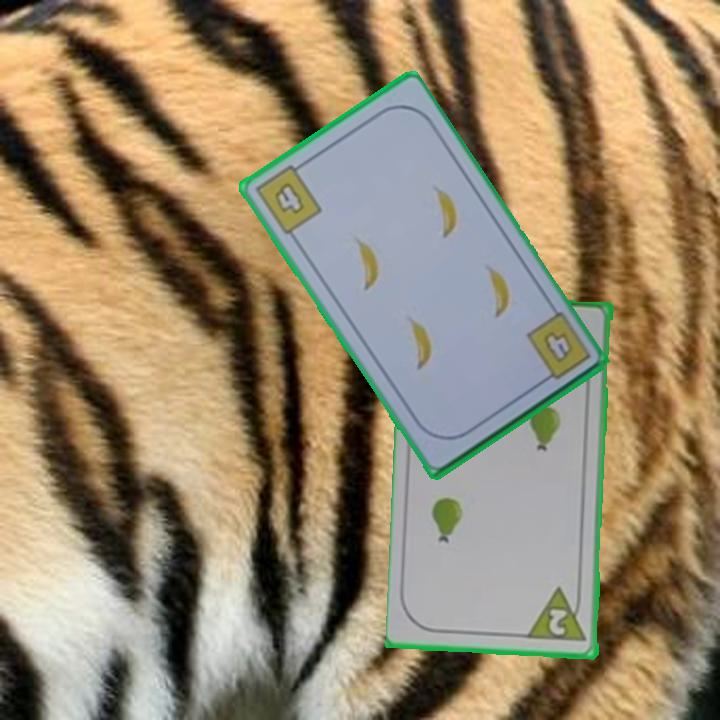2p: (526, 585, 590, 645)
4b: (251, 157, 325, 238), (522, 308, 594, 387)
